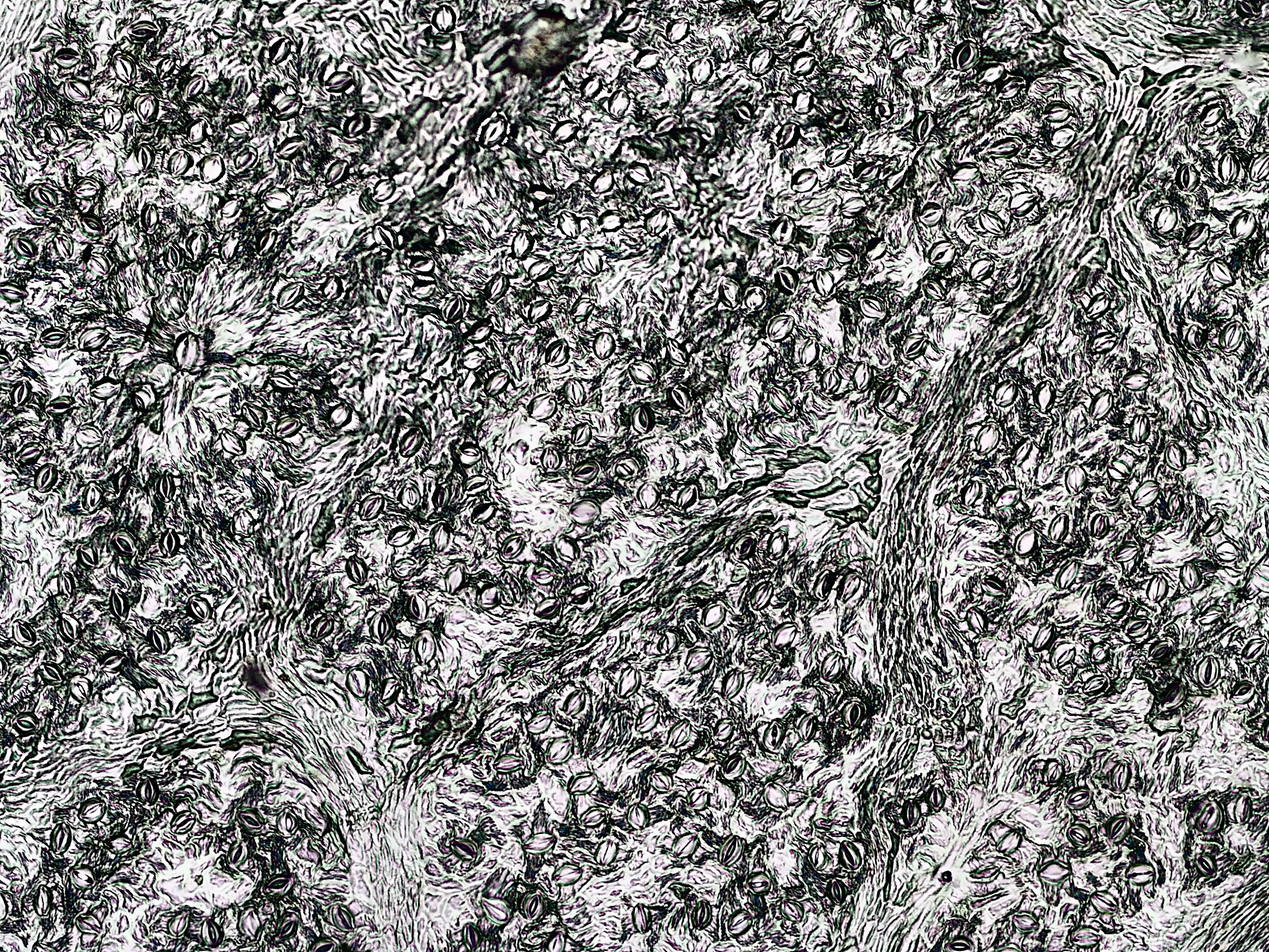stomata: (497, 569, 526, 609), (173, 332, 201, 372), (411, 629, 438, 666), (1229, 207, 1259, 240), (982, 136, 1026, 158), (478, 116, 508, 148), (370, 609, 396, 645), (480, 894, 510, 925), (718, 751, 749, 781), (442, 561, 470, 594), (568, 498, 601, 526), (483, 271, 510, 305), (126, 20, 161, 46), (1196, 655, 1221, 691), (1195, 801, 1223, 833), (1219, 320, 1246, 353), (520, 888, 546, 922), (719, 832, 745, 866), (842, 699, 868, 733), (616, 665, 641, 700), (1217, 151, 1242, 186), (552, 532, 581, 562), (670, 830, 700, 859), (775, 265, 803, 296), (1209, 256, 1237, 287), (275, 135, 308, 161), (78, 326, 111, 352), (1037, 861, 1074, 884), (273, 94, 303, 122), (764, 780, 791, 811), (200, 153, 226, 185), (262, 186, 294, 212), (431, 4, 457, 36), (689, 55, 715, 87), (644, 205, 670, 237), (135, 93, 160, 126), (954, 36, 979, 69), (1119, 369, 1153, 393), (975, 422, 999, 456), (236, 803, 264, 832), (928, 240, 956, 269), (78, 797, 108, 824), (438, 292, 465, 322), (1132, 481, 1162, 508), (272, 913, 298, 944), (359, 492, 385, 523), (634, 703, 660, 734), (80, 480, 105, 512), (345, 667, 370, 699), (1034, 381, 1059, 413), (991, 485, 1023, 510), (264, 873, 297, 897), (1043, 98, 1076, 122), (1047, 512, 1071, 545), (528, 392, 556, 420), (111, 529, 138, 558), (770, 620, 799, 647), (29, 182, 59, 208), (221, 426, 247, 456), (593, 839, 619, 869), (1013, 526, 1039, 556), (578, 804, 609, 829), (115, 52, 139, 84), (407, 594, 431, 626), (773, 213, 797, 245), (718, 277, 742, 309), (837, 571, 861, 603), (818, 363, 842, 395), (50, 822, 73, 855), (915, 111, 938, 144), (839, 840, 862, 873), (720, 668, 743, 701), (429, 517, 450, 553), (728, 908, 755, 936), (1106, 814, 1133, 842), (683, 646, 711, 673), (902, 331, 930, 358), (1054, 561, 1081, 589), (63, 75, 92, 101), (484, 369, 510, 398), (398, 482, 424, 511), (766, 316, 795, 342), (266, 34, 291, 64), (332, 901, 357, 931), (231, 507, 256, 537), (399, 427, 424, 457), (824, 142, 854, 167), (749, 580, 774, 610), (750, 46, 774, 77), (545, 740, 576, 764), (761, 720, 785, 751), (147, 622, 170, 654), (277, 806, 300, 838), (272, 417, 304, 440), (523, 833, 555, 856), (551, 863, 583, 886), (155, 469, 176, 504), (278, 283, 305, 310), (616, 7, 643, 34), (570, 297, 597, 324), (544, 339, 570, 367), (497, 532, 523, 560), (887, 32, 913, 60), (629, 359, 657, 385), (732, 532, 758, 560), (767, 387, 795, 413), (1177, 162, 1199, 195), (850, 360, 872, 393), (187, 595, 212, 624), (450, 836, 479, 861), (1126, 860, 1155, 885), (1161, 682, 1186, 711), (90, 376, 120, 400), (607, 89, 631, 119), (838, 195, 868, 219), (638, 482, 662, 512), (1091, 387, 1115, 417), (1164, 442, 1188, 472), (34, 462, 57, 493), (58, 610, 81, 641), (346, 555, 369, 586), (1010, 910, 1041, 933), (821, 649, 844, 680), (380, 675, 402, 707), (1131, 413, 1153, 445), (1065, 463, 1087, 495), (111, 586, 130, 623), (78, 212, 105, 238), (791, 168, 818, 194), (1008, 189, 1035, 215), (968, 256, 995, 282), (860, 294, 887, 320), (1241, 637, 1267, 664), (535, 595, 563, 620), (869, 95, 894, 123), (1065, 786, 1093, 811), (993, 379, 1018, 407), (14, 439, 43, 463), (99, 651, 128, 675), (136, 777, 160, 806), (243, 402, 267, 431), (628, 803, 652, 832), (561, 687, 585, 716), (997, 77, 1026, 101), (775, 120, 799, 149), (1090, 332, 1119, 356), (45, 395, 78, 416), (71, 178, 101, 201), (524, 712, 554, 735), (71, 674, 93, 705), (432, 482, 454, 513), (1233, 793, 1255, 824), (240, 905, 260, 939), (218, 194, 244, 220), (344, 111, 370, 137), (979, 209, 1005, 235), (40, 324, 67, 349), (1092, 889, 1119, 914), (996, 829, 1023, 854), (52, 48, 84, 69), (75, 424, 103, 448), (201, 917, 222, 949), (510, 228, 531, 260), (666, 338, 690, 366), (676, 482, 700, 510), (813, 567, 834, 599), (1248, 151, 1269, 183), (373, 222, 396, 251), (634, 48, 663, 71), (464, 320, 493, 343), (632, 405, 655, 434), (667, 719, 690, 748), (1109, 762, 1132, 791), (1179, 562, 1202, 591), (580, 246, 602, 276), (853, 160, 883, 182), (1188, 399, 1210, 429), (102, 834, 133, 855), (567, 774, 598, 795), (797, 712, 818, 743), (86, 252, 111, 278), (387, 522, 413, 547), (780, 897, 805, 923), (746, 870, 772, 895), (326, 68, 353, 92), (69, 864, 96, 888), (666, 15, 690, 42), (579, 72, 603, 99), (528, 259, 555, 283), (1085, 291, 1109, 318), (141, 201, 160, 235), (13, 618, 36, 646), (1154, 205, 1177, 233), (631, 901, 651, 933), (134, 144, 156, 173), (235, 145, 257, 174), (227, 840, 249, 869), (558, 210, 580, 239), (670, 385, 692, 414), (565, 379, 587, 408), (571, 460, 600, 482), (925, 783, 947, 812), (169, 148, 190, 178), (901, 798, 922, 828), (1074, 928, 1104, 949), (1033, 621, 1054, 651), (1147, 574, 1168, 604), (160, 526, 179, 559), (39, 660, 64, 685), (1185, 223, 1210, 248), (310, 615, 334, 641), (700, 604, 726, 628), (186, 117, 209, 144), (132, 385, 155, 412), (75, 913, 102, 936), (257, 229, 280, 256), (477, 582, 500, 609), (569, 579, 592, 606), (765, 531, 788, 558), (11, 377, 31, 408), (113, 466, 133, 497), (527, 184, 558, 204), (691, 899, 711, 930), (0, 281, 28, 303), (168, 910, 190, 938), (325, 158, 347, 186), (598, 210, 626, 232), (593, 331, 615, 359), (570, 420, 592, 448), (491, 756, 527, 773), (550, 119, 579, 140), (969, 862, 998, 883), (1185, 323, 1206, 352), (34, 884, 53, 916), (171, 809, 195, 834), (164, 242, 184, 272), (371, 178, 396, 202), (756, 0, 781, 24), (590, 169, 615, 193), (650, 769, 675, 793), (1230, 681, 1255, 705), (78, 543, 101, 569), (13, 712, 39, 735), (790, 53, 816, 76), (457, 443, 483, 466), (462, 473, 489, 495), (658, 627, 680, 654), (796, 338, 818, 365), (877, 384, 899, 411), (959, 479, 981, 506), (1123, 615, 1150, 637), (221, 231, 240, 262), (183, 73, 204, 101), (1010, 438, 1031, 466), (229, 116, 253, 140), (327, 404, 351, 428), (472, 500, 496, 524), (539, 448, 563, 472), (918, 203, 942, 227), (922, 278, 946, 302), (46, 122, 69, 147), (654, 113, 679, 136), (686, 786, 709, 811), (713, 718, 738, 741), (1195, 853, 1218, 878), (1199, 103, 1224, 126), (211, 16, 237, 38), (831, 242, 857, 264), (103, 105, 122, 135), (186, 230, 205, 260), (816, 268, 835, 298), (1250, 563, 1269, 593), (52, 233, 73, 260), (967, 607, 988, 634), (1053, 643, 1074, 670), (462, 923, 482, 951), (1090, 511, 1110, 539), (57, 568, 75, 599), (269, 373, 300, 391), (462, 346, 486, 369), (543, 929, 567, 952), (1105, 593, 1129, 616), (529, 299, 551, 324), (531, 566, 556, 588), (1067, 825, 1093, 846), (976, 64, 1006, 82), (952, 162, 979, 182), (1112, 543, 1139, 563), (980, 577, 1008, 596), (786, 24, 809, 47), (13, 236, 37, 258), (1050, 126, 1075, 147), (323, 276, 343, 302), (1082, 675, 1108, 695), (307, 936, 339, 952), (809, 841, 826, 871), (616, 457, 639, 479), (1149, 641, 1172, 663), (411, 278, 435, 299), (628, 162, 652, 183), (828, 878, 848, 903), (1106, 460, 1131, 480), (1045, 759, 1064, 785), (1216, 540, 1238, 562), (1090, 641, 1111, 664), (393, 556, 417, 576), (1198, 605, 1223, 624), (946, 936, 975, 952), (1234, 0, 1261, 17), (794, 89, 813, 113), (734, 101, 754, 123), (745, 288, 766, 308), (1202, 514, 1221, 536), (1167, 490, 1185, 513), (1257, 243, 1269, 275), (972, 0, 1001, 13), (412, 255, 432, 273)
